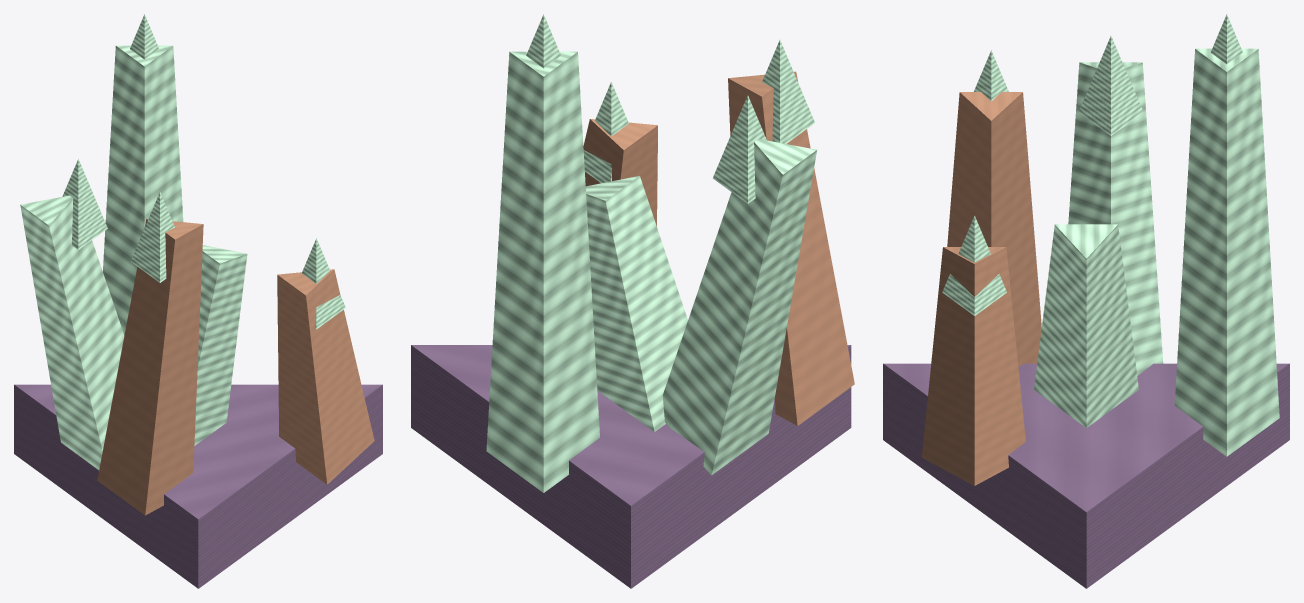
File: atlas100-s086-a04.lod1.glb
3 renders of one model, left to right at view 1: azimuth 30°, elevation 25°; view 2: azimuth 150°, elevation 25°; view 3: azimuth 270°, elevation 25°, orthographic. The views are drawn at different scales.
Parts seen in each view (by area): view 1: atlas100-s086-a04:part-000, atlas100-s086-a04:part-003, atlas100-s086-a04:part-009, atlas100-s086-a04:part-007, atlas100-s086-a04:part-005, atlas100-s086-a04:part-001, atlas100-s086-a04:part-004, atlas100-s086-a04:part-010, atlas100-s086-a04:part-008, atlas100-s086-a04:part-006; view 2: atlas100-s086-a04:part-005, atlas100-s086-a04:part-000, atlas100-s086-a04:part-009, atlas100-s086-a04:part-001, atlas100-s086-a04:part-003, atlas100-s086-a04:part-007, atlas100-s086-a04:part-010, atlas100-s086-a04:part-004, atlas100-s086-a04:part-008, atlas100-s086-a04:part-006; view 3: atlas100-s086-a04:part-000, atlas100-s086-a04:part-005, atlas100-s086-a04:part-007, atlas100-s086-a04:part-001, atlas100-s086-a04:part-003, atlas100-s086-a04:part-009, atlas100-s086-a04:part-010, atlas100-s086-a04:part-008, atlas100-s086-a04:part-004, atlas100-s086-a04:part-006.
Part boxes in pixels (x1,y1,x2,y2): atlas100-s086-a04:part-000: (14, 384, 382, 588); atlas100-s086-a04:part-003: (97, 218, 203, 515); atlas100-s086-a04:part-009: (20, 195, 124, 470); atlas100-s086-a04:part-007: (277, 269, 374, 484); atlas100-s086-a04:part-005: (103, 45, 183, 334); atlas100-s086-a04:part-001: (194, 245, 247, 445); atlas100-s086-a04:part-004: (130, 192, 174, 282); atlas100-s086-a04:part-010: (62, 159, 107, 249); atlas100-s086-a04:part-008: (302, 238, 345, 329); atlas100-s086-a04:part-006: (130, 14, 158, 59); atlas100-s086-a04:part-005: (486, 51, 599, 492); atlas100-s086-a04:part-000: (411, 345, 851, 588); atlas100-s086-a04:part-009: (662, 139, 816, 475); atlas100-s086-a04:part-001: (585, 176, 687, 431); atlas100-s086-a04:part-003: (728, 71, 854, 425); atlas100-s086-a04:part-007: (583, 119, 657, 226); atlas100-s086-a04:part-010: (713, 95, 766, 203); atlas100-s086-a04:part-004: (762, 40, 814, 143); atlas100-s086-a04:part-008: (583, 82, 628, 183); atlas100-s086-a04:part-006: (526, 14, 560, 68); atlas100-s086-a04:part-000: (883, 363, 1289, 588); atlas100-s086-a04:part-005: (1174, 48, 1279, 456); atlas100-s086-a04:part-007: (922, 247, 1025, 485); atlas100-s086-a04:part-001: (1034, 224, 1138, 427); atlas100-s086-a04:part-003: (947, 92, 1041, 366); atlas100-s086-a04:part-009: (1068, 62, 1163, 375); atlas100-s086-a04:part-010: (1078, 36, 1143, 135); atlas100-s086-a04:part-008: (942, 215, 1006, 315); atlas100-s086-a04:part-004: (974, 50, 1008, 101); atlas100-s086-a04:part-006: (1210, 14, 1242, 64).
Bounding box in the file's own units: 0.9772 × 1.21 × 0.9258.
Materials: 3 (3 with a texture image).
